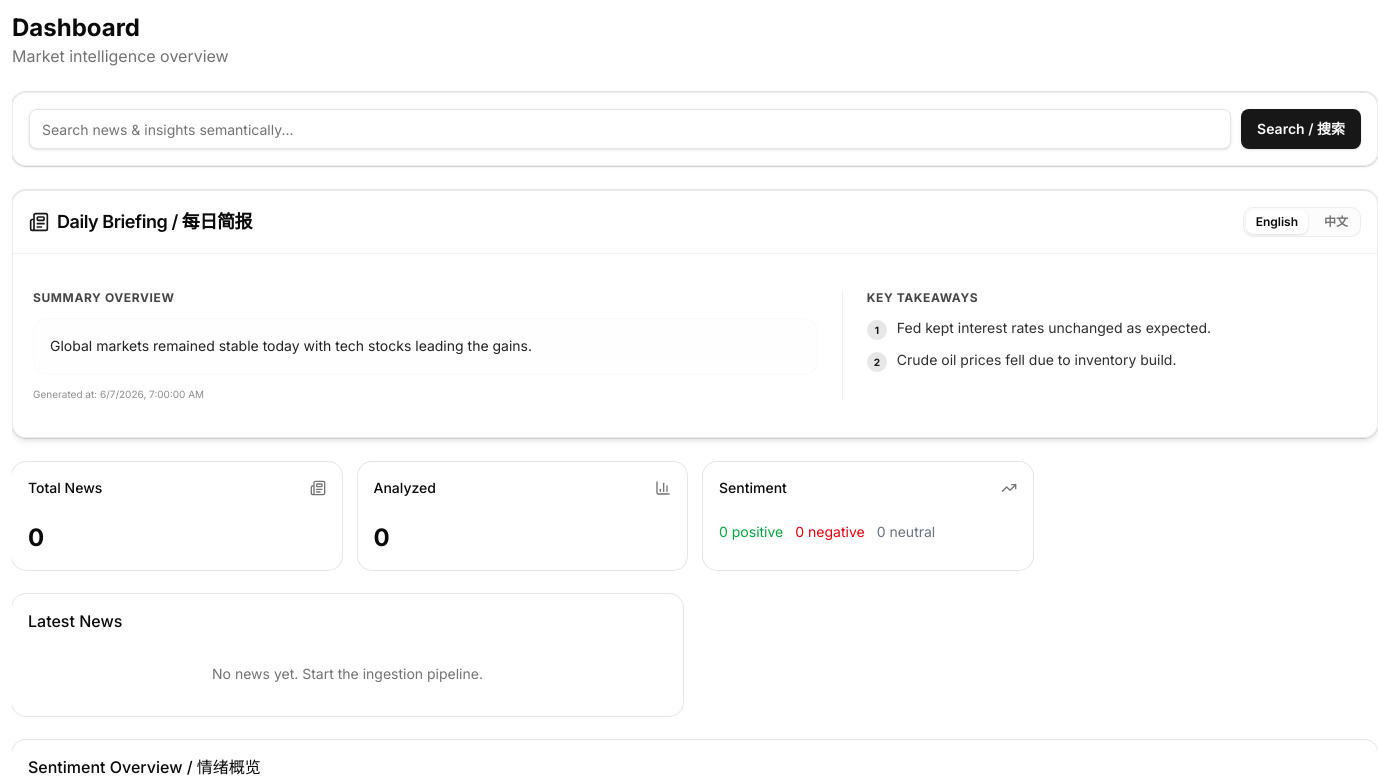
Test case: Dashboard Page - Slice 2 (Daily Briefing) › renders the latest daily briefing and allows bilingual toggling
Expected: the text "Daily Briefing / 每日简报" is shown, [57,208,252,236]
Expected: the text "Global markets remained stable today with tech stocks leading the gains." is shown, [33,318,818,375]
Click the button with aria-label "switch-lang-zh": (1336, 222) [1314,210,1358,234]
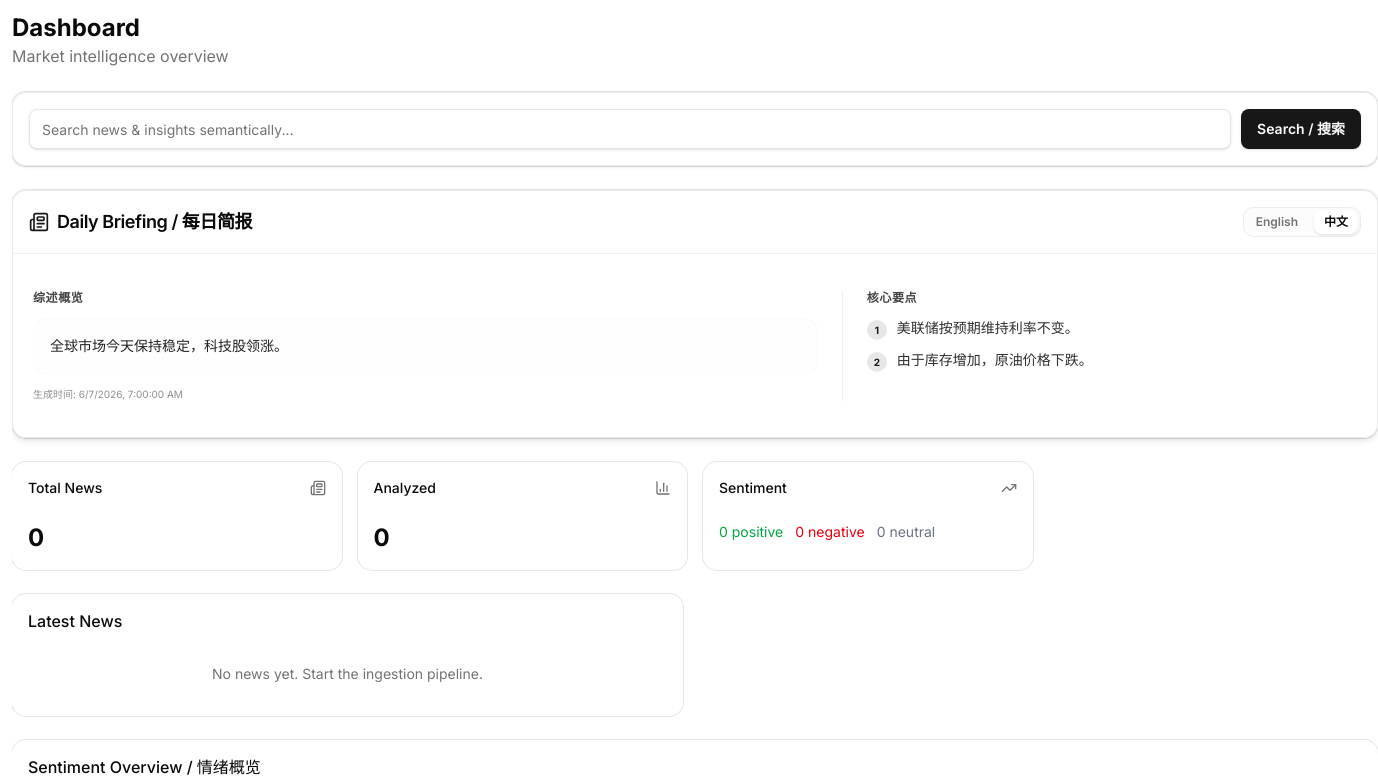
Expected: the text "全球市场今天保持稳定，科技股领涨。" is shown, [33,318,818,375]
Expected: the text "美联储按预期维持利率不变。" is shown, [897,318,1079,337]
Expected: the text "由于库存增加，原油价格下跌。" is shown, [897,350,1093,369]
